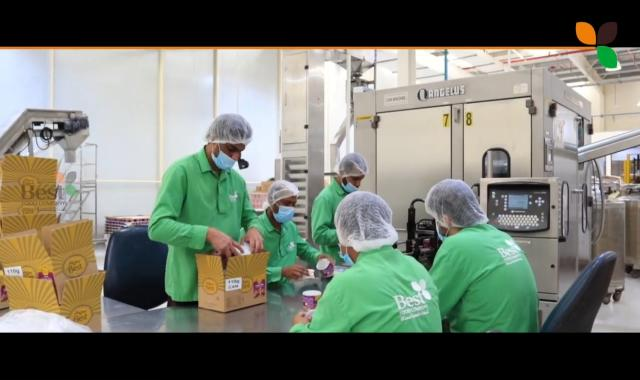hairnet: (333, 192, 398, 251), (425, 180, 486, 231), (202, 113, 253, 161), (266, 179, 298, 220), (336, 153, 368, 187)
